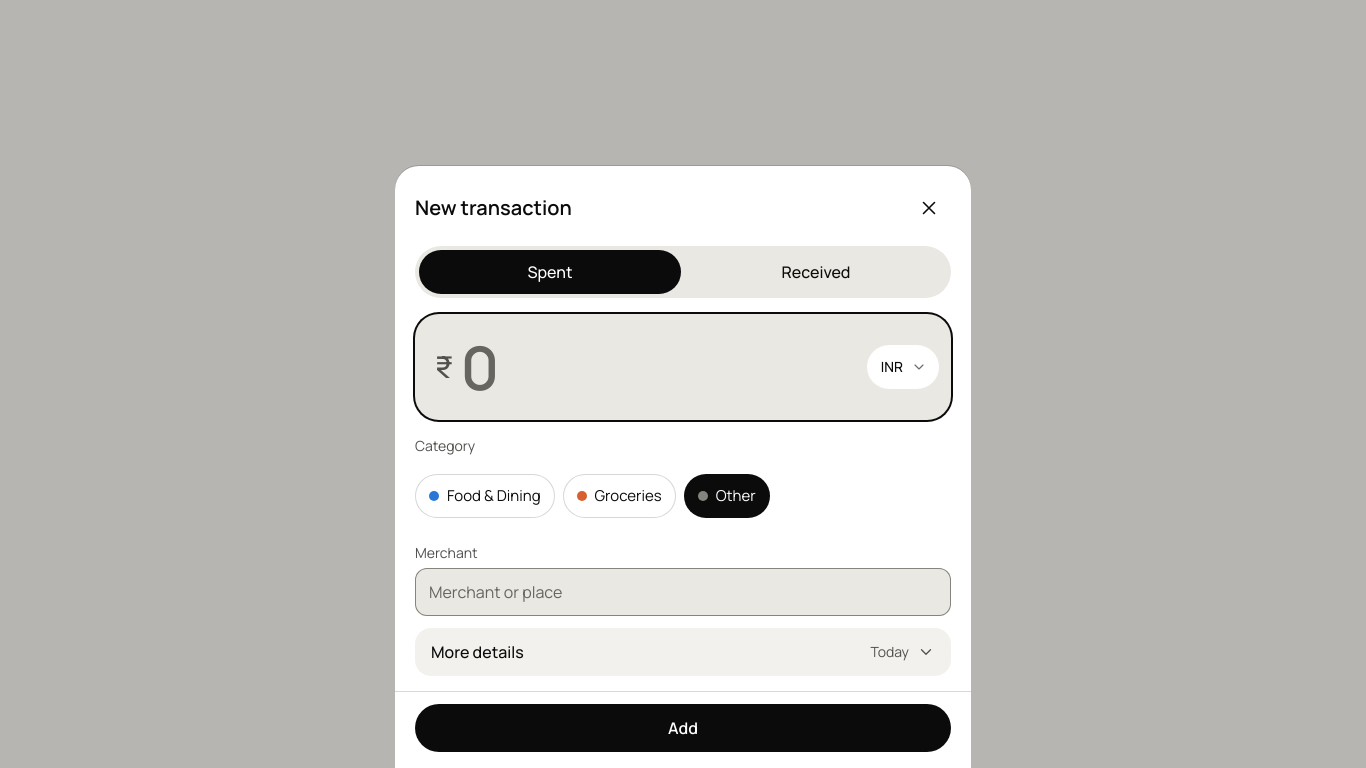
Test case: Add form: tapping twice › can be used again after a save that failed
This screenshot has width=1366, height=768.
Type "1e22" into the field named "Amount" at {"x": 660, "y": 367}, box x1=461 y1=326 x2=859 y2=408
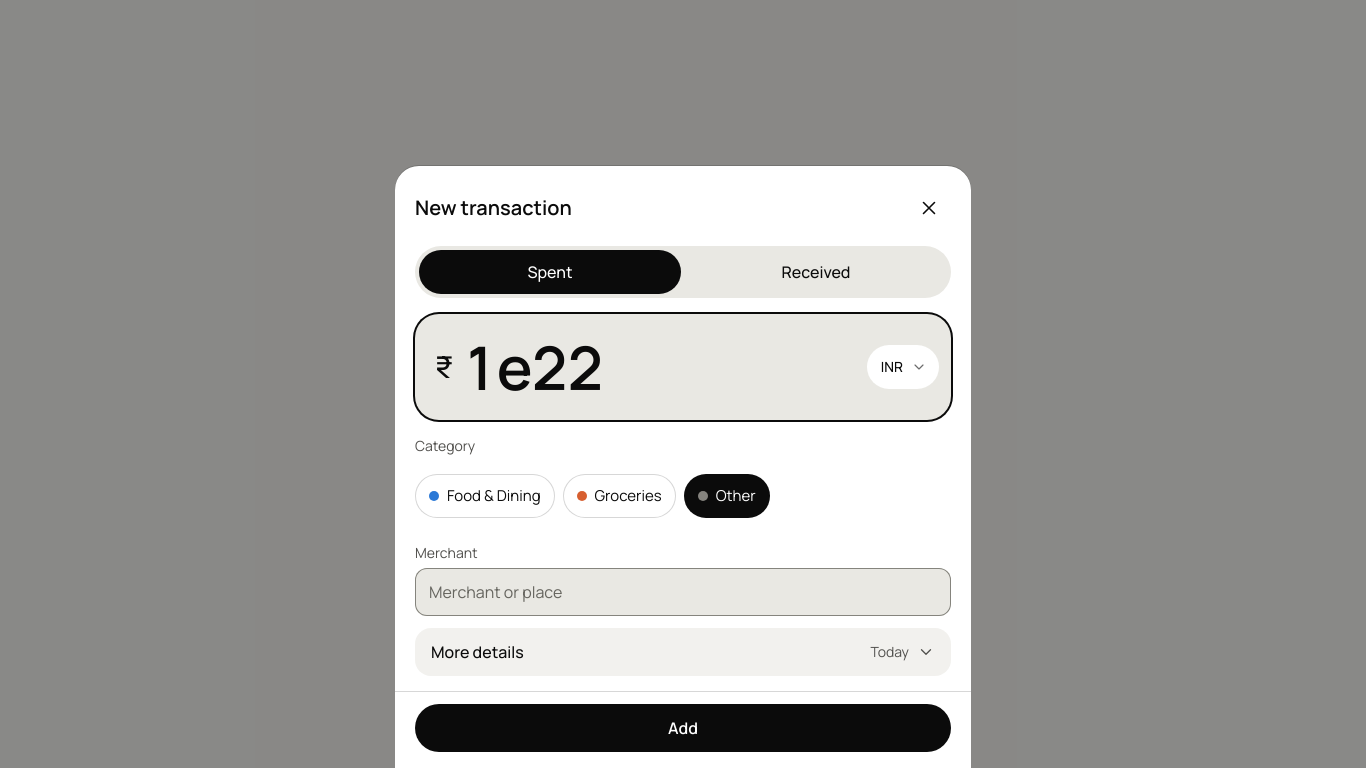
Click the button "Add" at {"x": 683, "y": 728}, box x1=415 y1=704 x2=951 y2=752
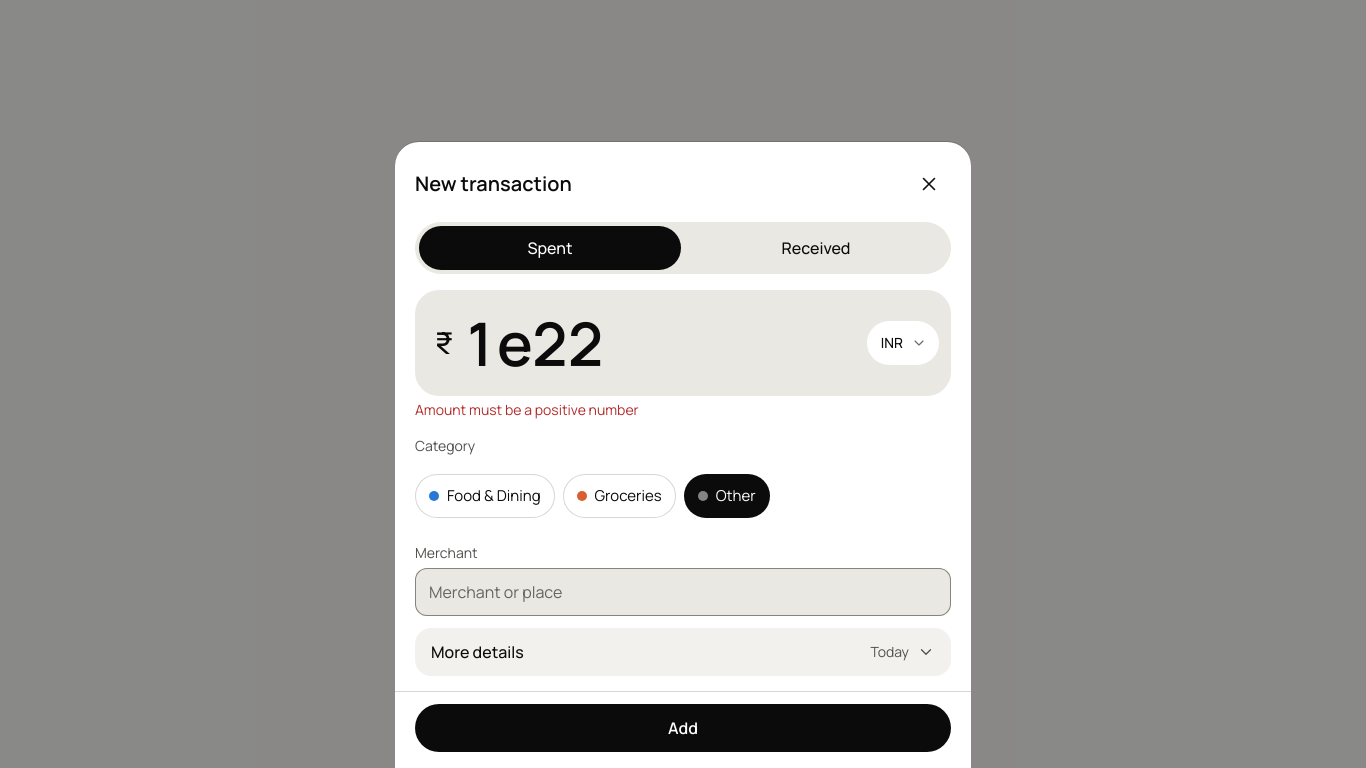
Check: the message "Amount must be a positive number" is shown, box x1=415 y1=400 x2=639 y2=419
